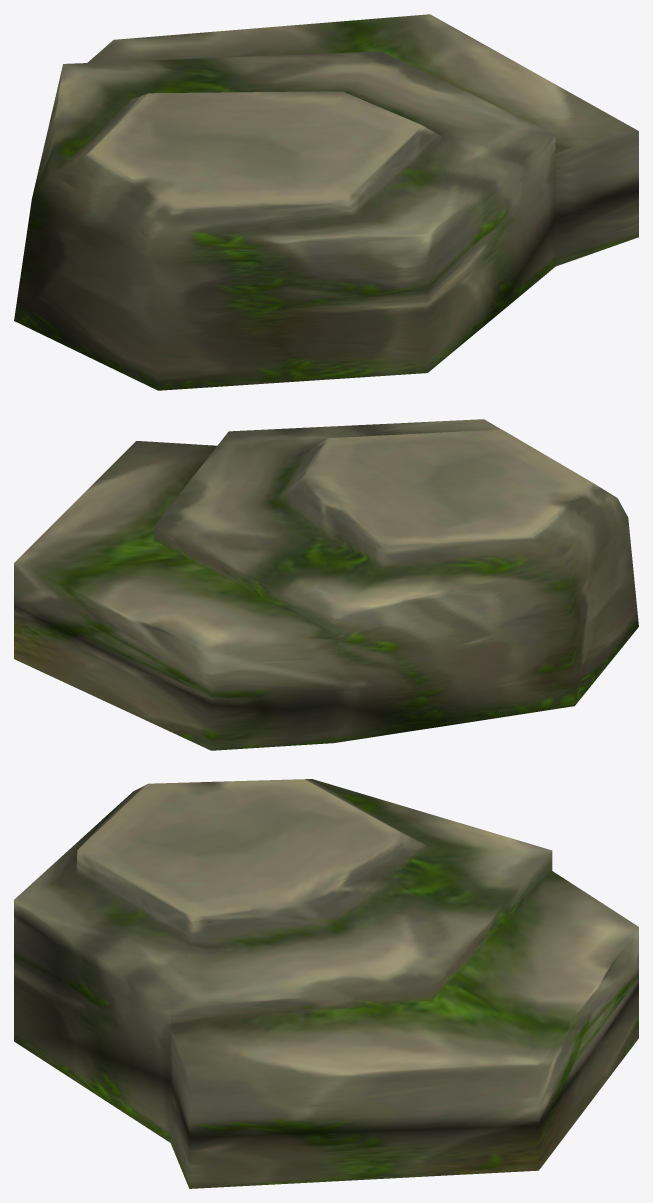
File: RockFormation_4_5 (24).fbx
3 renders of one model, top to bottom at view 1: azimuth 30°, elevation 25°; view 2: azimuth 150°, elevation 25°; view 3: azimuth 270°, elevation 25°, orthographic. The views are drawn at different scales.
Parts seen in each view (by area): view 1: RockFormation_4_5 (24); view 2: RockFormation_4_5 (24); view 3: RockFormation_4_5 (24).
Boxes of the visible parts, bbox=[...] form: RockFormation_4_5 (24): bbox=[14, 14, 638, 390]; RockFormation_4_5 (24): bbox=[14, 419, 638, 750]; RockFormation_4_5 (24): bbox=[14, 779, 638, 1188].
Size of the model in its own units: 318 by 89.45 by 306.
